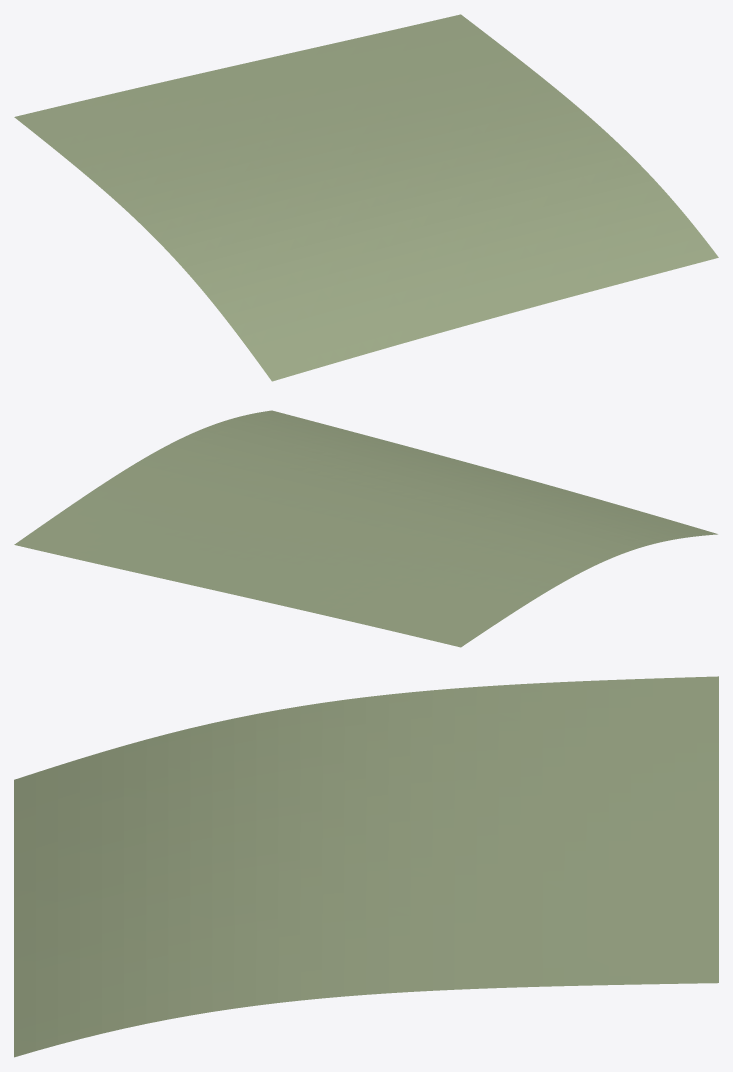
File: expanse-3-4.glb
The picture shows the model from 3 angles, top to bottom: view 1: azimuth 30°, elevation 25°; view 2: azimuth 150°, elevation 25°; view 3: azimuth 270°, elevation 25°; orthographic projection. The views are drawn at different scales.
Visible parts, largest first — view 1: expanse-3-4; view 2: expanse-3-4; view 3: expanse-3-4.
Part boxes in pixels (x1,y1,x2,y2): expanse-3-4: (14, 14, 718, 381); expanse-3-4: (14, 410, 717, 647); expanse-3-4: (14, 676, 718, 1057).
Bounding box in the file's own units: 256 × 41.43 × 256.
